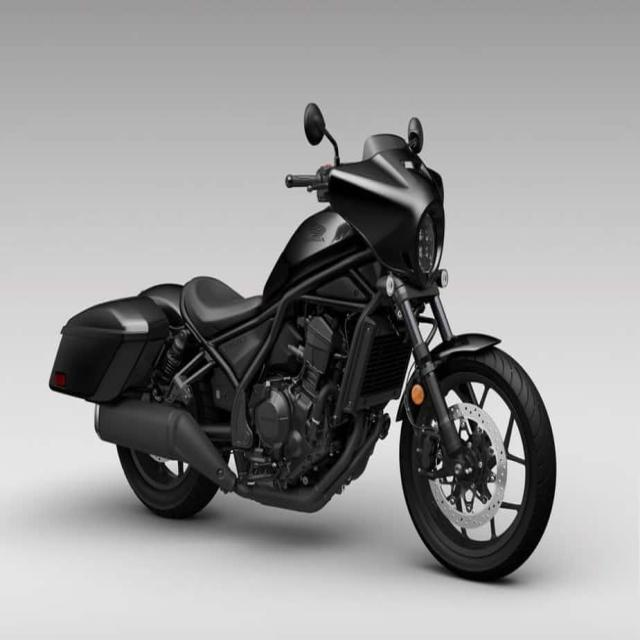Bike: (48, 104, 558, 586)
